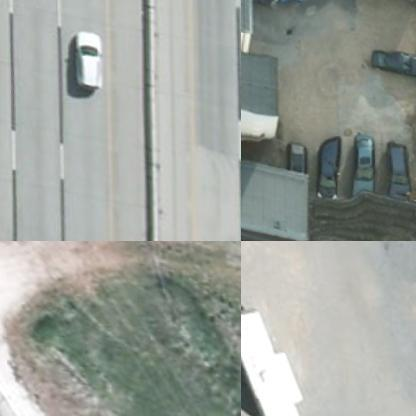camping car: (241, 294, 309, 415)
car: (62, 20, 103, 90), (372, 134, 409, 192), (336, 125, 368, 187)
pickup: (360, 36, 415, 72)
